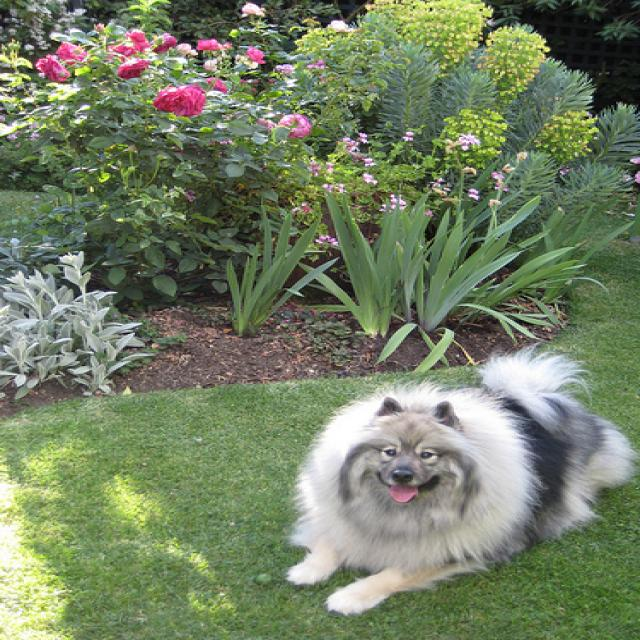dog-keeshond: (275, 342, 637, 622)
